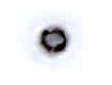cancer: (16, 10, 88, 75)
